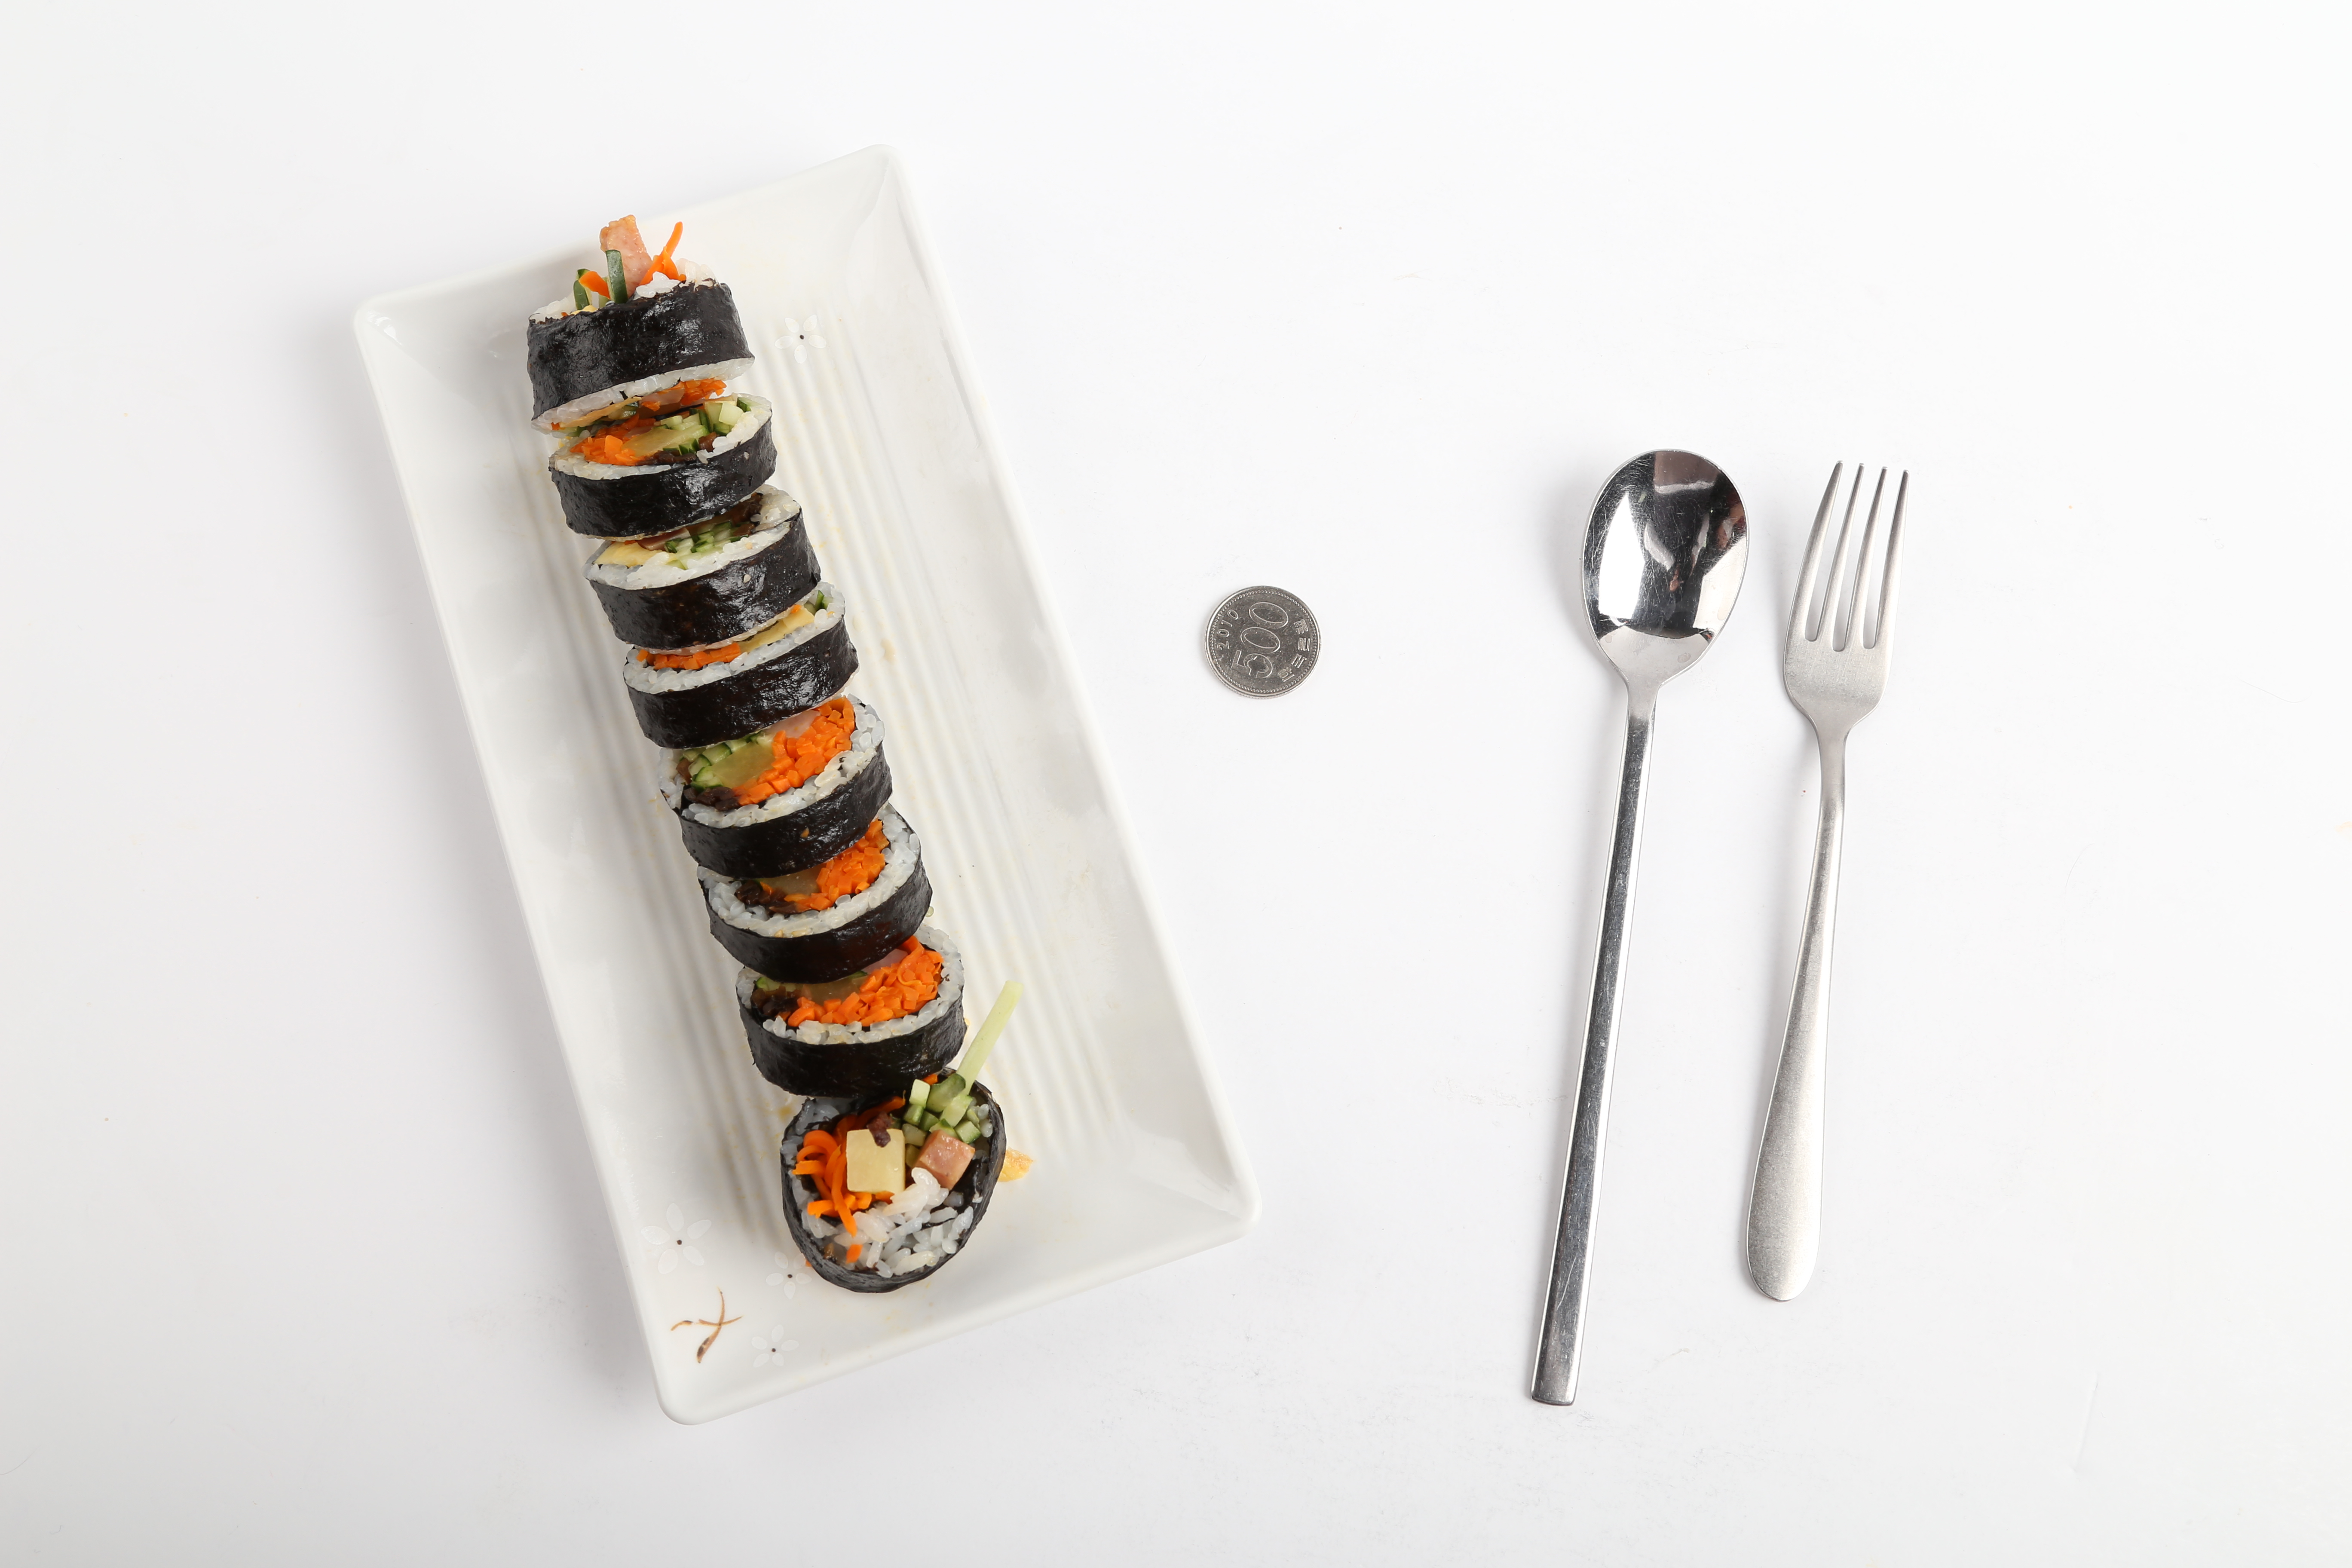dish: (343, 136, 1267, 1424)
ref_coin: (1195, 577, 1325, 705)
ref_fork: (1778, 455, 1916, 780)
ref_spoon: (1571, 441, 1753, 730)
김밥: (521, 208, 1015, 1300)
